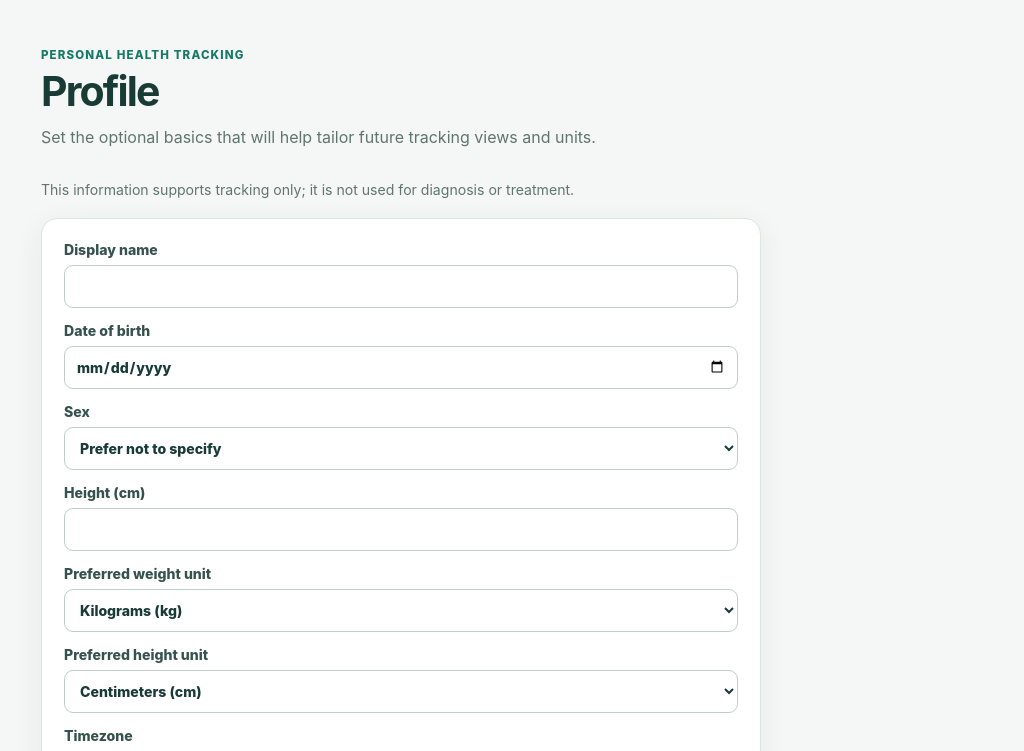
ProfilePage › creates a profile from the form
Type "Mali" into the field labelled "Display name" at point(401, 286), box [64,265,738,308]
(page scrolled)
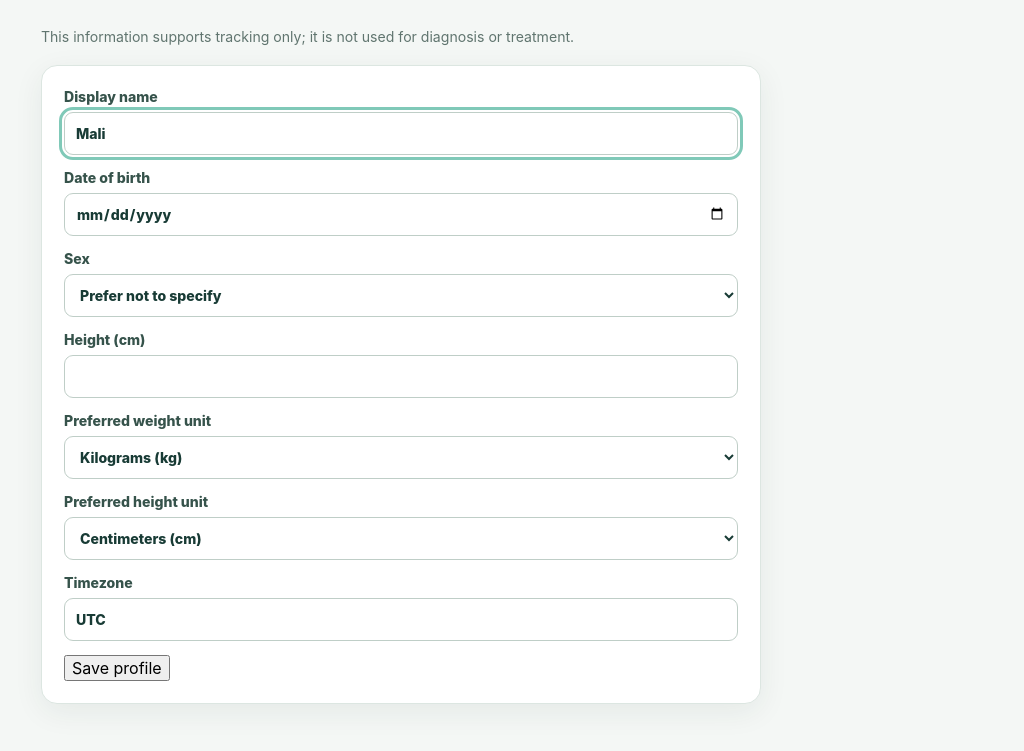
Click the button "Save profile" at point(117, 668), box [64,655,170,681]
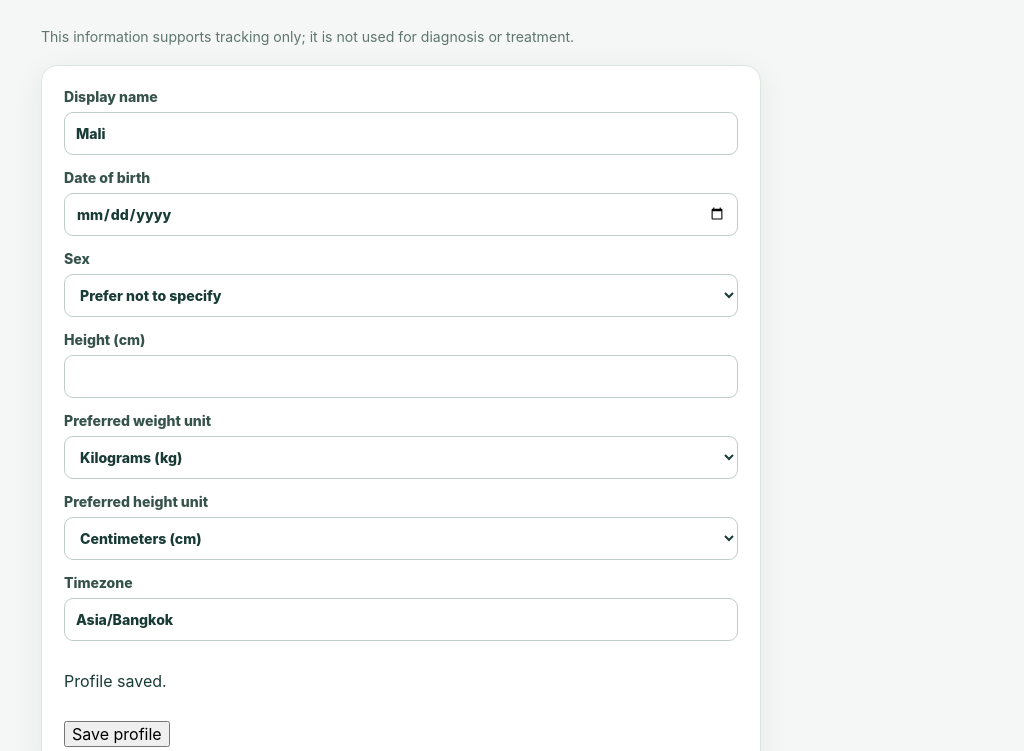
Expected: the text "Profile saved." is shown, [64,671,167,691]
